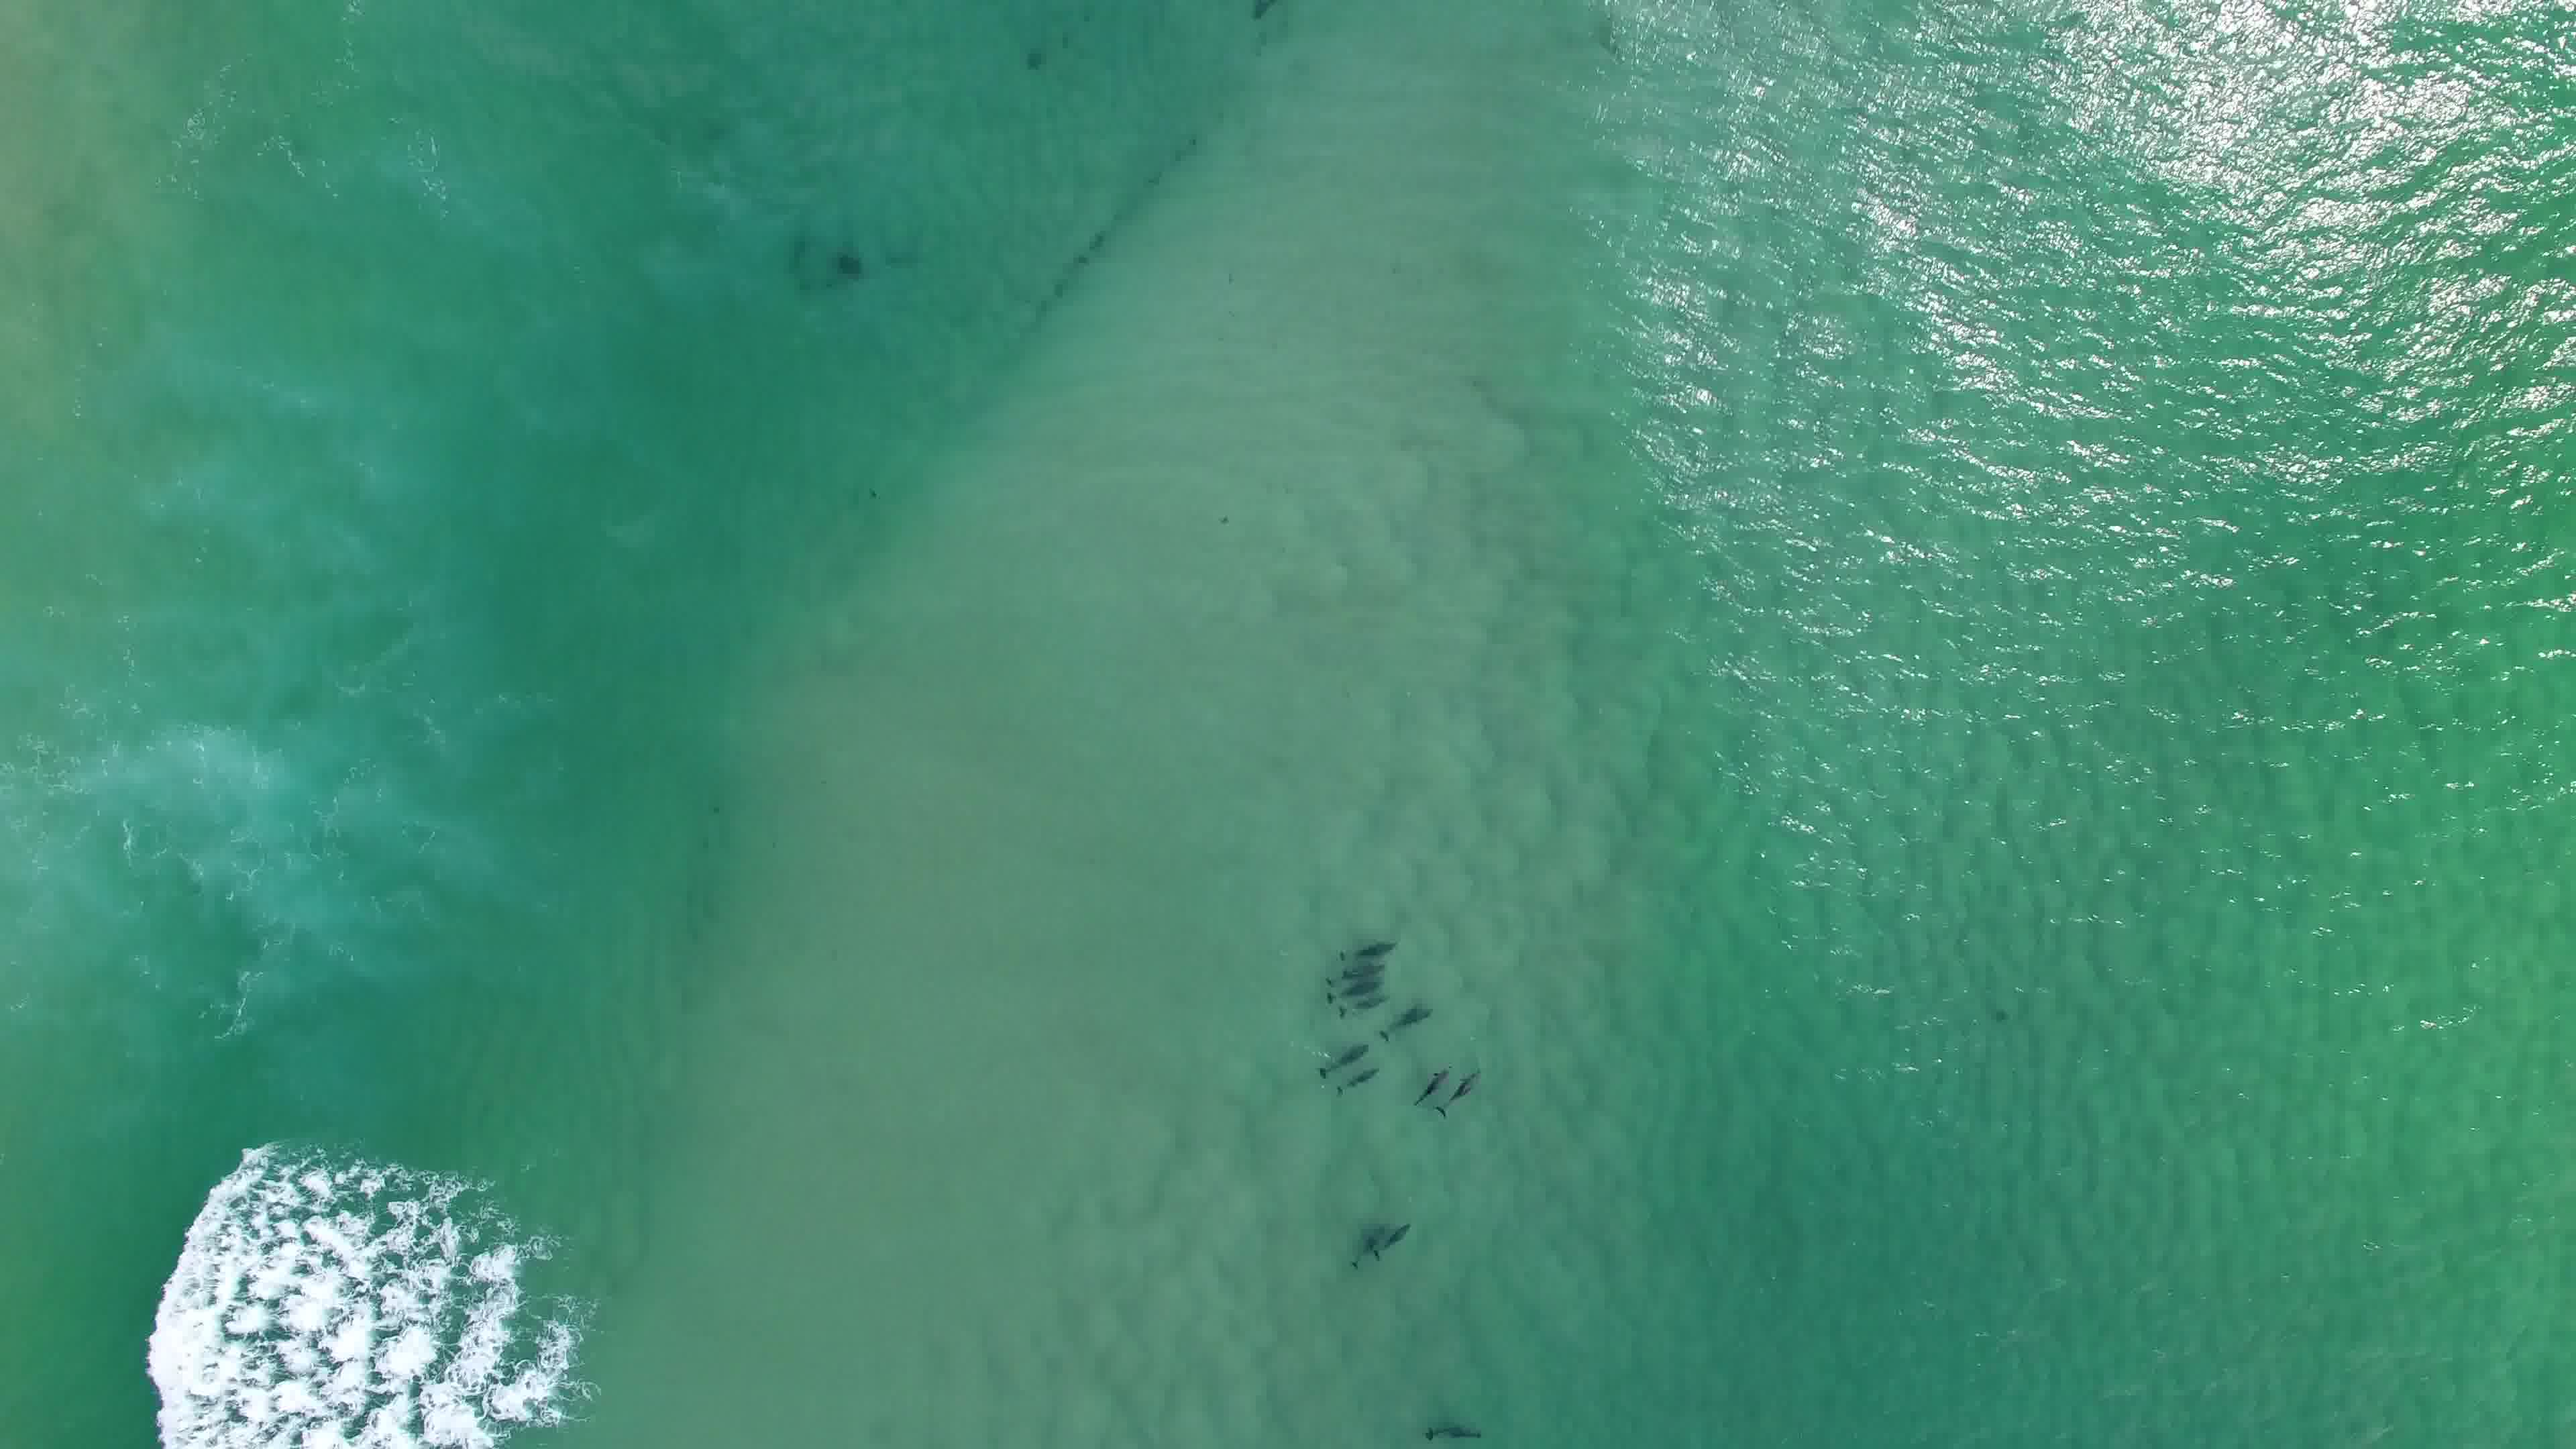dolphin: (1290, 1024, 1376, 1072), (1373, 996, 1451, 1046), (1437, 1070, 1491, 1118), (1330, 1058, 1389, 1099), (1369, 1217, 1419, 1265), (1338, 924, 1399, 961), (1329, 989, 1405, 1019), (1405, 1054, 1453, 1102), (1323, 954, 1387, 982), (1322, 973, 1387, 998), (1350, 1219, 1385, 1256)
